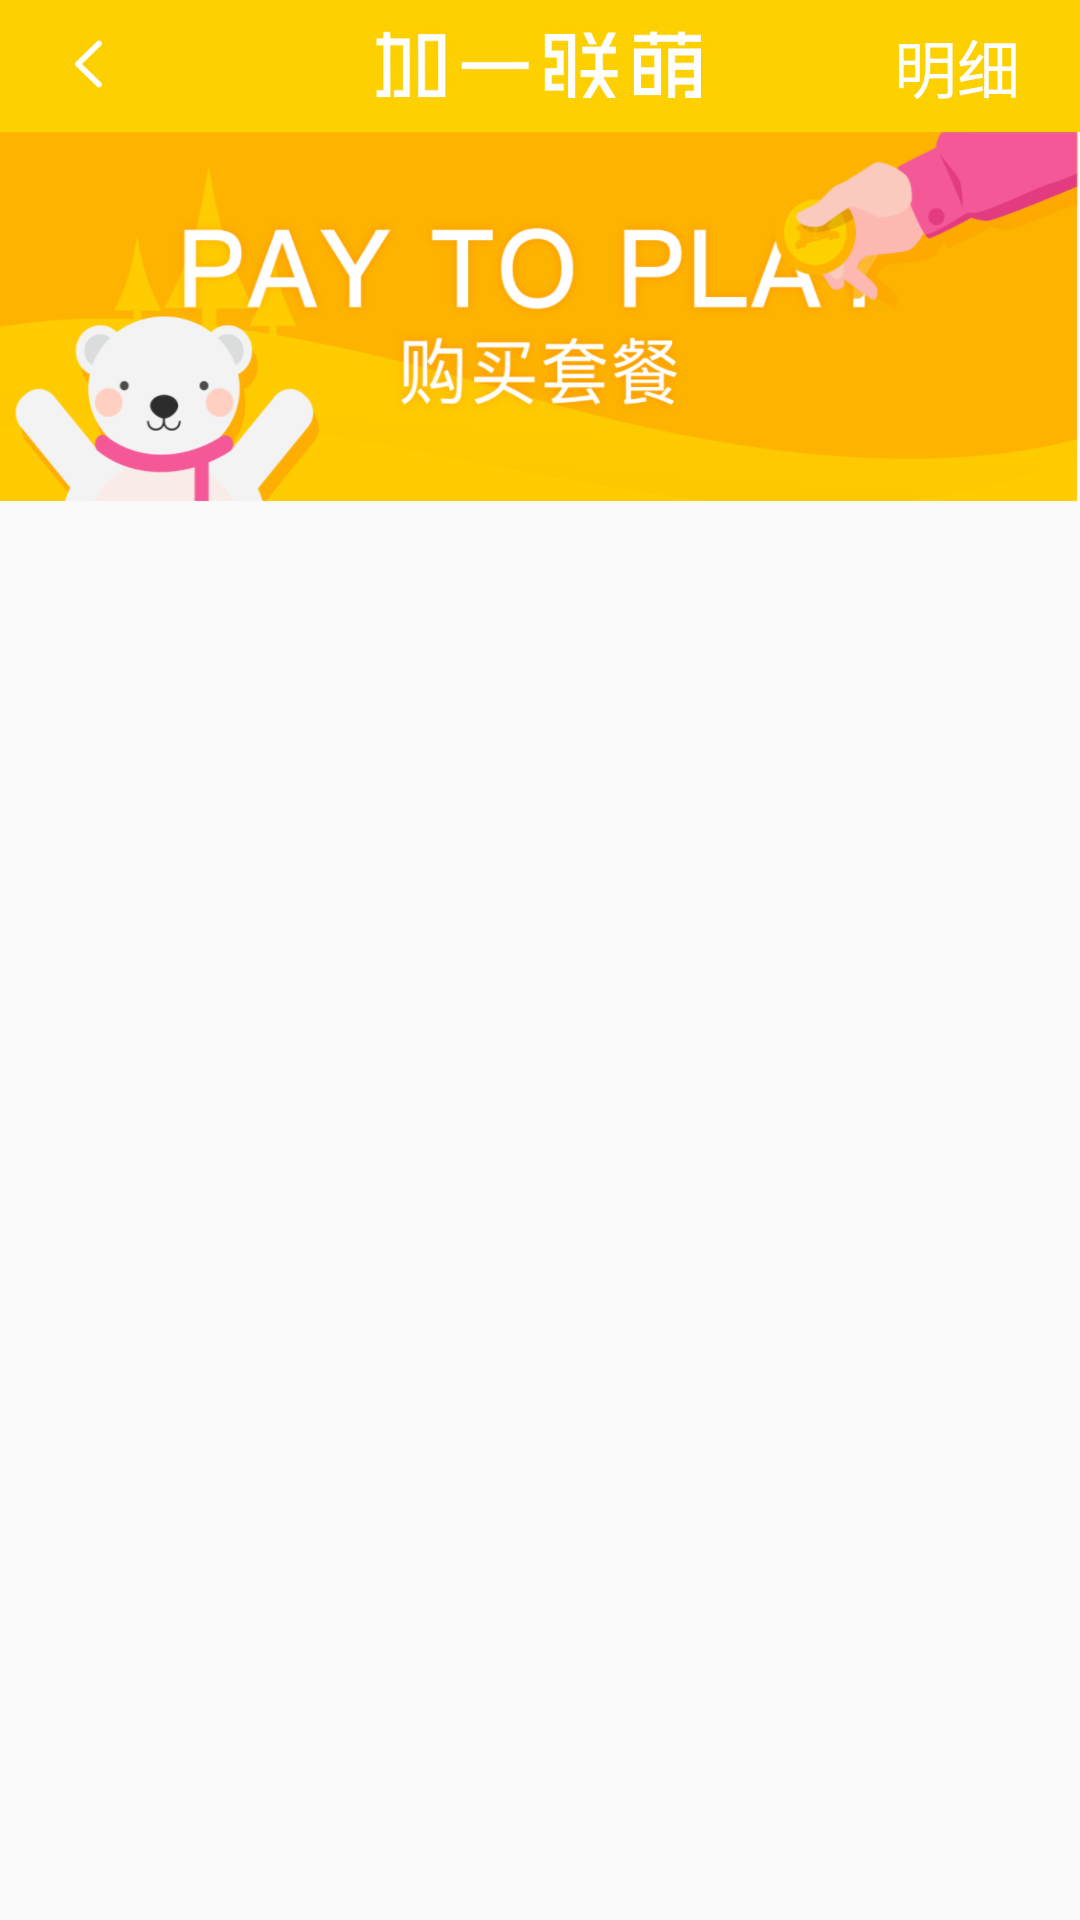

Icons on this 1080px×1920px Android screen, each with its box as (x1, y1, x2, y2):
back: (75, 40, 102, 88)
